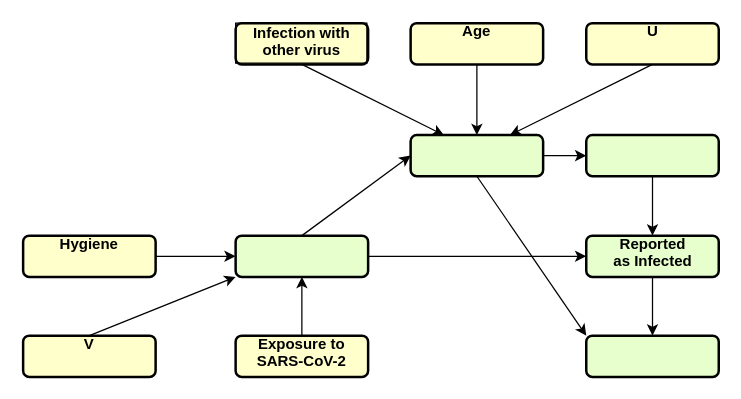
The diagram is 741 pixels wide and 399 high, and some of its shapes have lost their labels. The box of each missing label's shape, as (x1, y1, x2, y2) in pixels:
Infection with SARS-CoV-2: (234, 234, 369, 278)
Reported as Died: (584, 334, 719, 378)
Symptoms: (409, 133, 544, 177)
Test: (584, 133, 719, 177)
